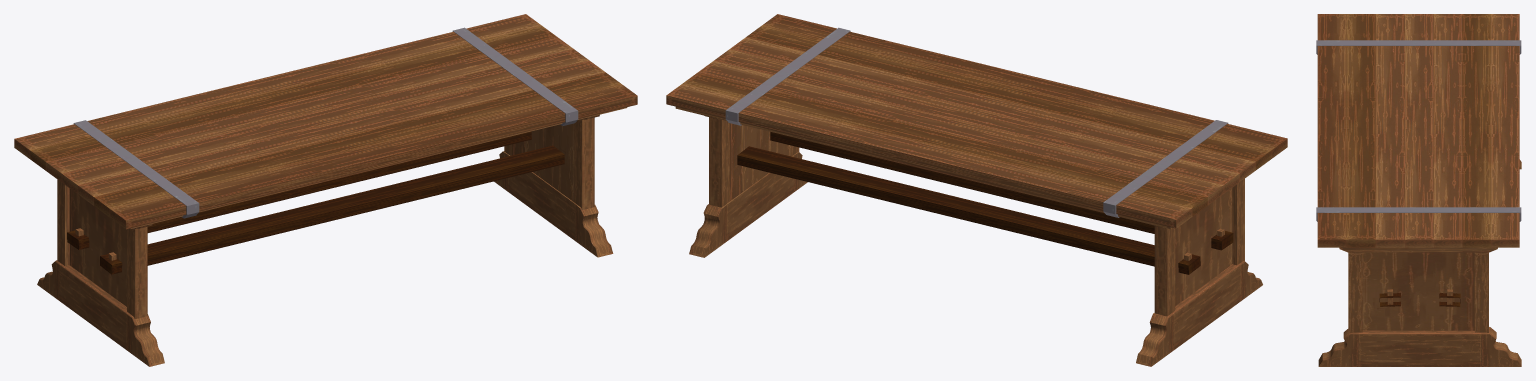
Rendered from Table_Large.gltf.
3 views of the same model, side by side, from view 1: azimuth 30°, elevation 25°; view 2: azimuth 150°, elevation 25°; view 3: azimuth 270°, elevation 25° (orthographic). The views are drawn at different scales.
Visible parts, largest first — view 1: Table_Large; view 2: Table_Large; view 3: Table_Large.
Boxes of the visible parts, x1,y1,x2,y2 form: Table_Large: (14, 14, 637, 366); Table_Large: (666, 14, 1287, 366); Table_Large: (1316, 14, 1521, 366).
Size of the model in its own units: 2.85 by 0.8134 by 1.1.
Materials: 2 (2 with a texture image).
